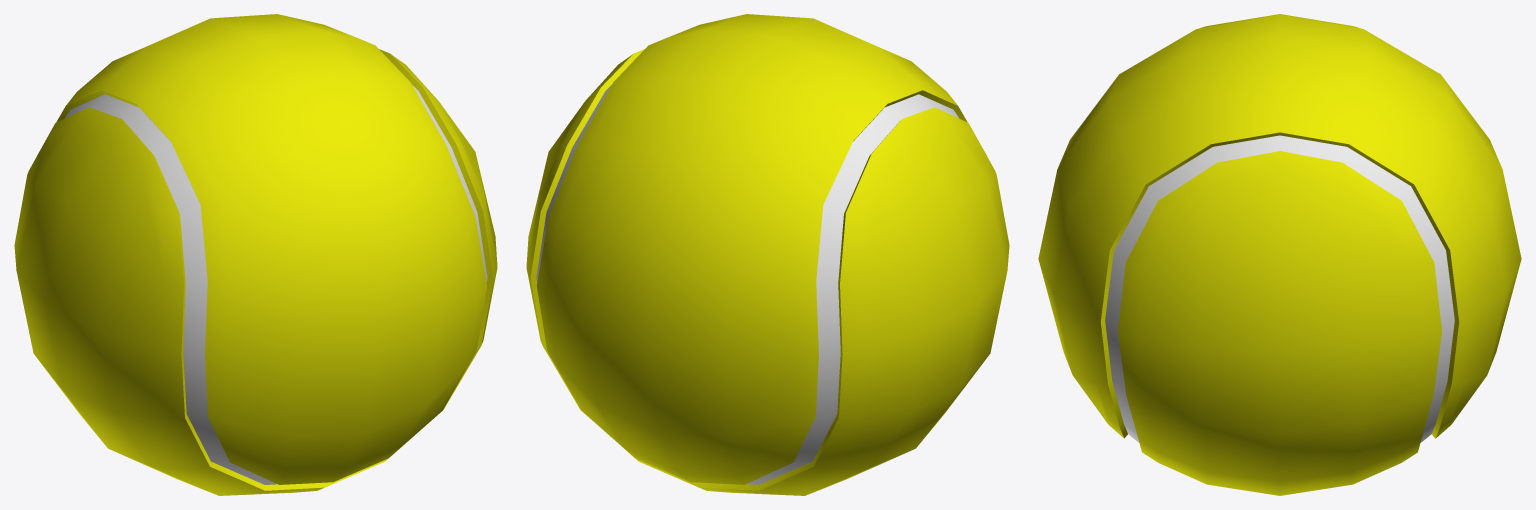
The model's file is TennisBall.fbx.
The picture shows the model from 3 angles, left to right: view 1: azimuth 30°, elevation 25°; view 2: azimuth 150°, elevation 25°; view 3: azimuth 270°, elevation 25°; orthographic projection.
Visible parts, largest first — view 1: pPlatonic1; view 2: pPlatonic1; view 3: pPlatonic1.
Boxes of the visible parts, x1=… form: pPlatonic1: x1=14, y1=14, x2=497, y2=495; pPlatonic1: x1=526, y1=14, x2=1009, y2=495; pPlatonic1: x1=1038, y1=14, x2=1521, y2=495.
Bounding box in the file's own units: 2.41 × 2.41 × 2.41.
